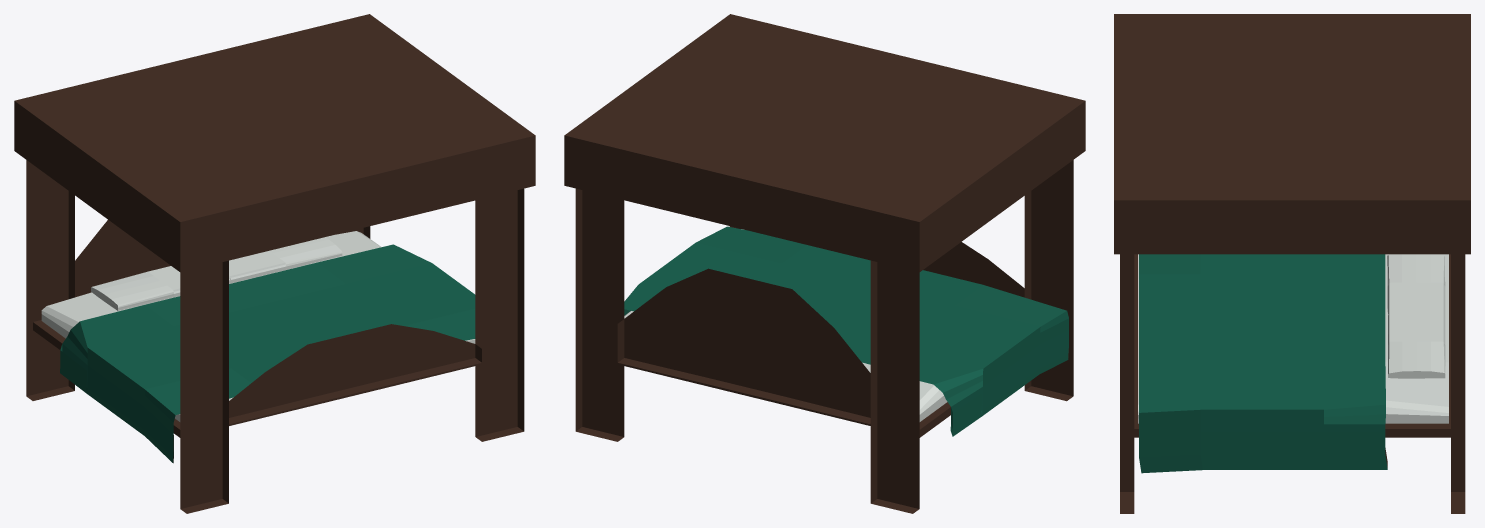
File: Kings_Bed.glb
3 views of the same model, side by side, from view 1: azimuth 30°, elevation 25°; view 2: azimuth 150°, elevation 25°; view 3: azimuth 270°, elevation 25° (orthographic). The views are drawn at different scales.
Visible parts, largest first — view 1: Bed; view 2: Bed; view 3: Bed.
Boxes of the visible parts, x1,y1,x2,y2 form: Bed: (14, 14, 535, 513); Bed: (564, 14, 1085, 513); Bed: (1114, 14, 1470, 513).
Bounding box in the file's own units: 9.95 × 7.92 × 8.05.
